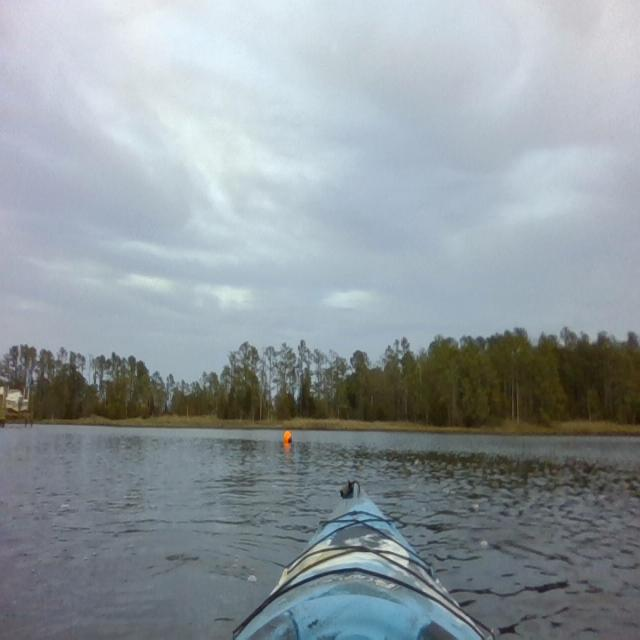Buoy: (282, 428, 293, 446)
